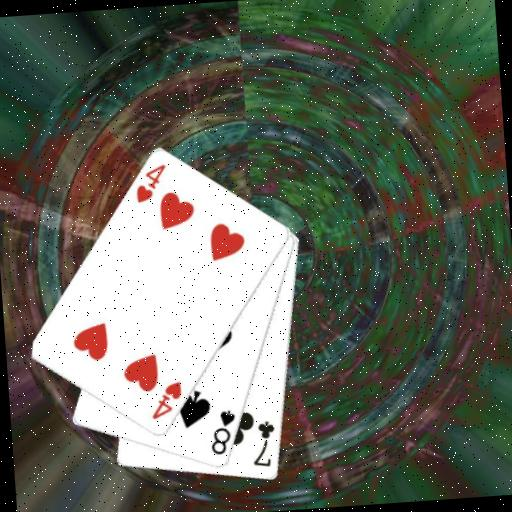4H: (146, 378, 186, 422), (131, 161, 170, 205)
7C: (248, 418, 280, 470)
8S: (205, 407, 240, 458)
